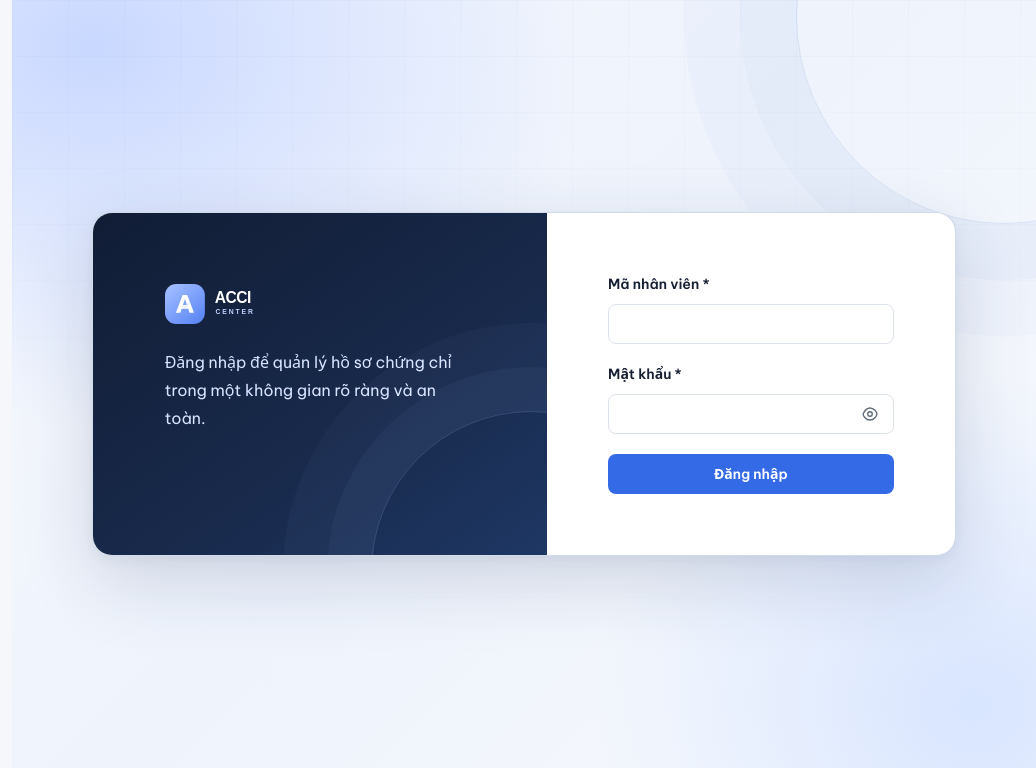
Test case: returns the user to the requested protected route after login
The width and height of the screenshot is (1036, 768).
Type "NV001" into the field labelled "Mã nhân viên *" at (751, 324), box [608,304,894,344]
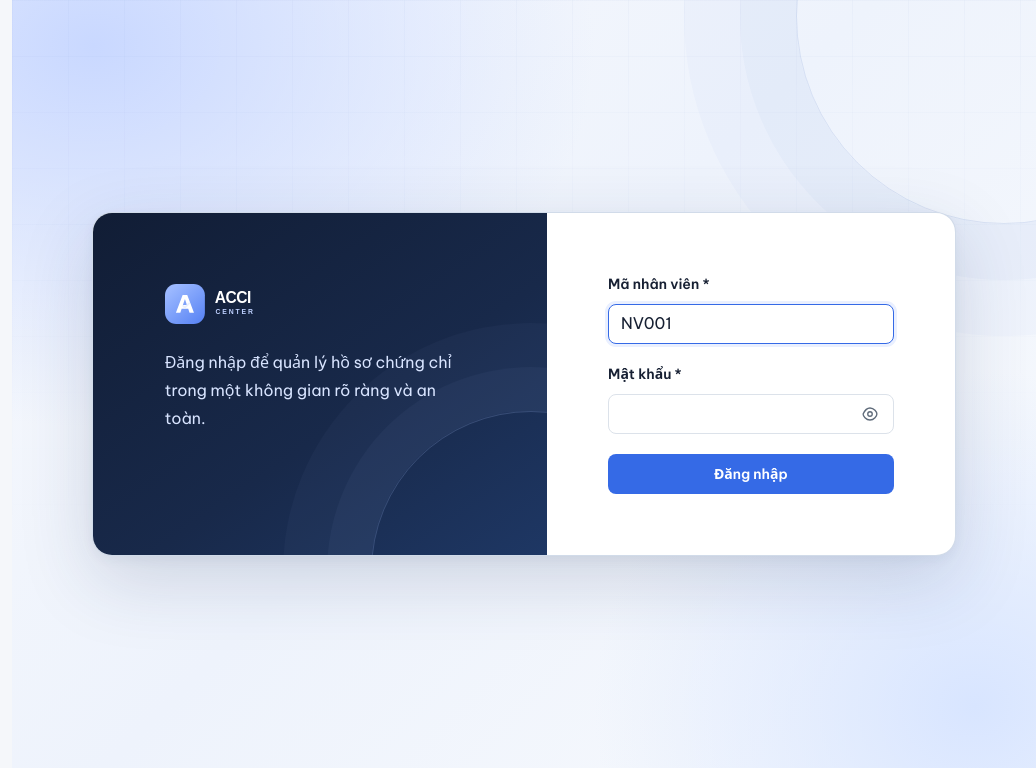
Type "secret" into the password field labelled "Mật khẩu *" at (751, 414), box [608,394,894,434]
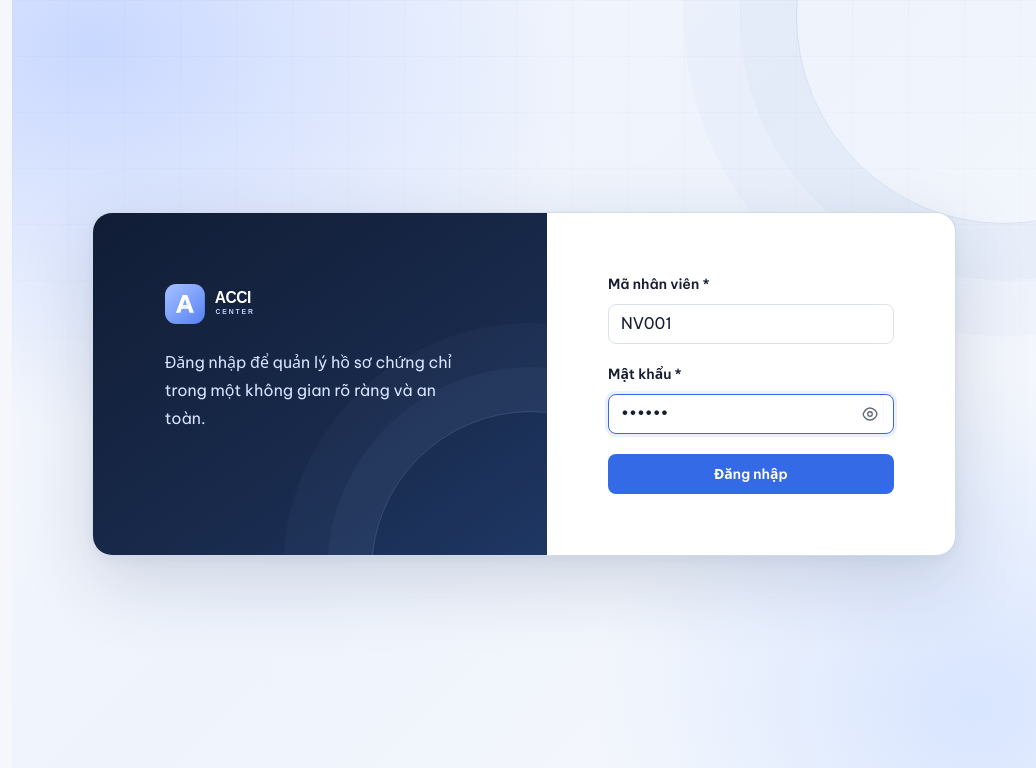
Click the button "Đăng nhập" at (751, 474), box [608,454,894,494]
(page scrolled)
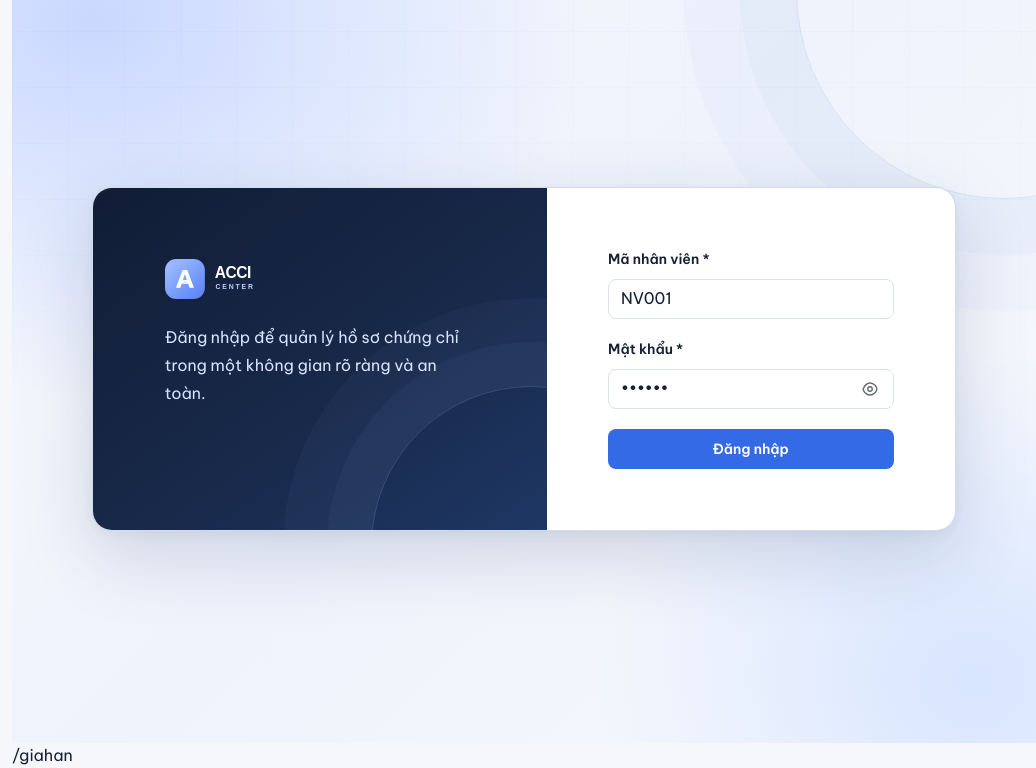
Now the text with test id "location" reads "/giahan", box [12,745,73,765]
